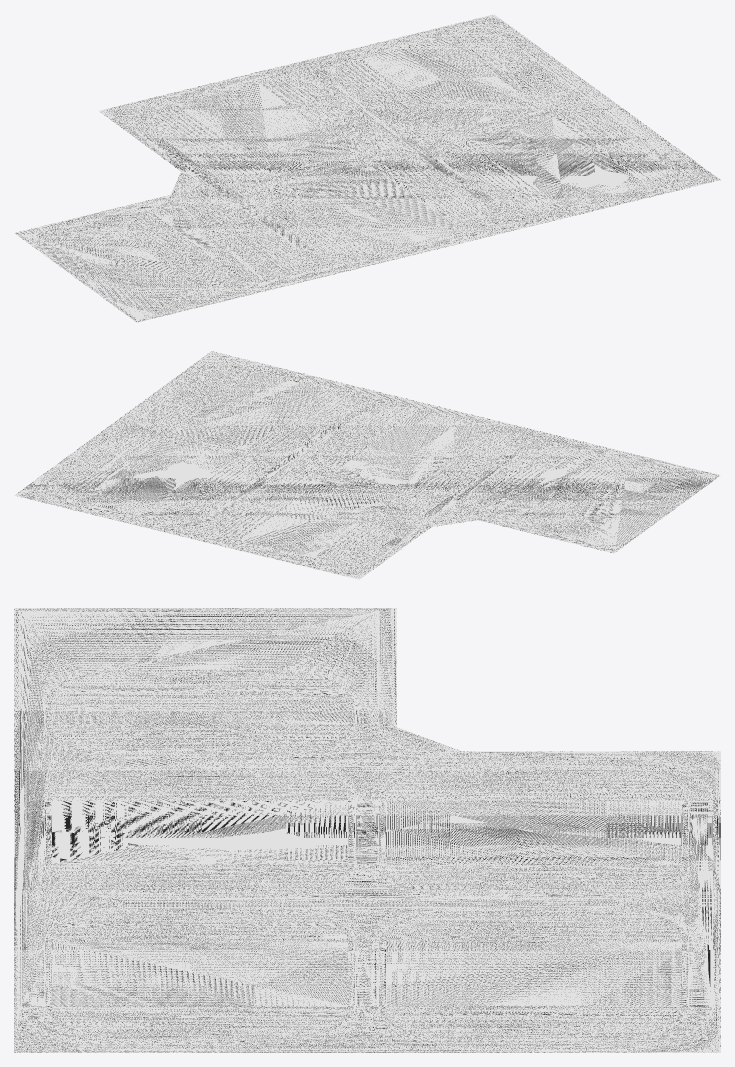
File: Teknofest Robotaxi Pist Çizimi.dae
The picture shows the model from 3 angles, top to bottom: view 1: azimuth 30°, elevation 25°; view 2: azimuth 150°, elevation 25°; view 3: azimuth 270°, elevation 25°; orthographic projection. The views are drawn at different scales.
Visible parts, largest first — view 1: SketchUp (×13); view 2: SketchUp (×13); view 3: SketchUp (×17).
Part boxes in pixels (x1,y1,x2,y2): SketchUp (×13): (14,14,720,322); SketchUp (×13): (14,351,720,579); SketchUp (×17): (14,608,720,1052).
Size of the model in its own units: 5989 by 4022 by 1.35e-13.
Materials: 3 (1 with a texture image).
